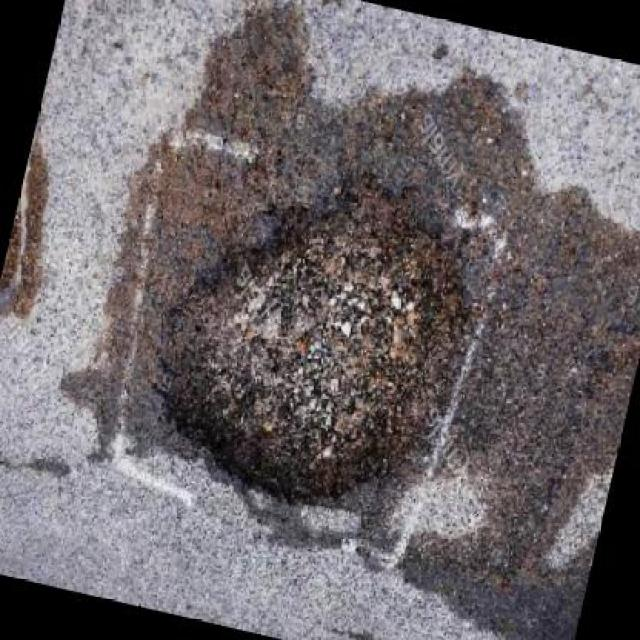pothole: (122, 141, 500, 545)
